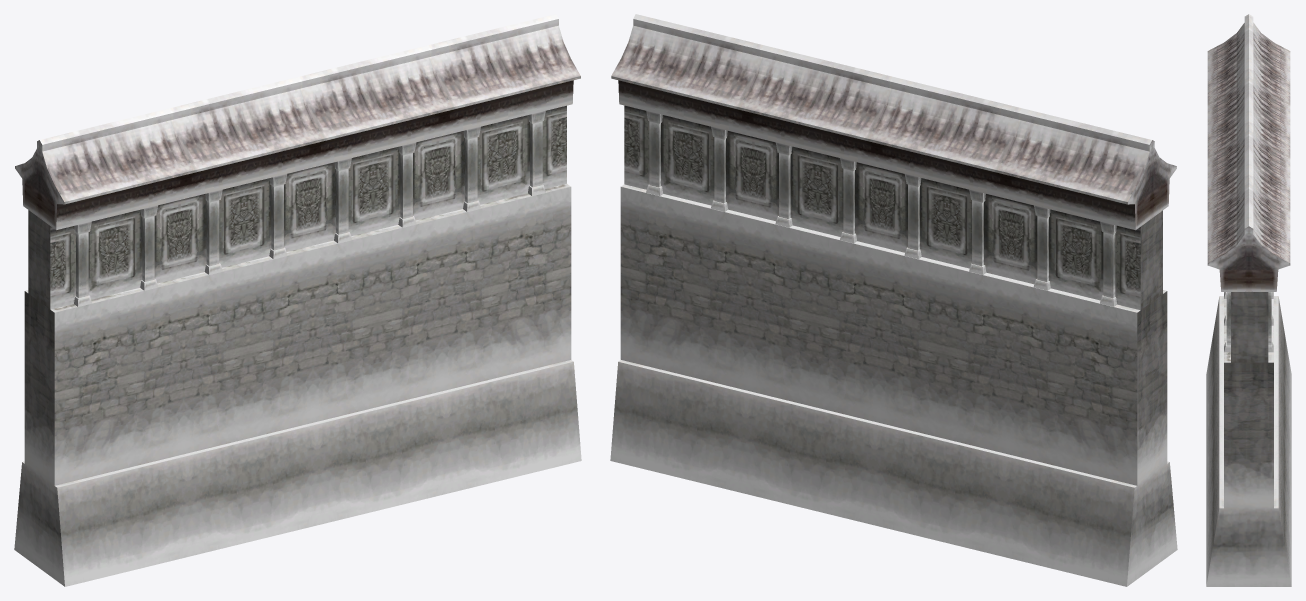
File: snow-middledam-02.glb
3 views of the same model, side by side, from view 1: azimuth 30°, elevation 25°; view 2: azimuth 150°, elevation 25°; view 3: azimuth 270°, elevation 25° (orthographic). The views are drawn at different scales.
Visible parts, largest first — view 1: snow-middledam-02; view 2: snow-middledam-02; view 3: snow-middledam-02.
Part boxes in pixels (box(x1,y1,x2,y2)): snow-middledam-02: box(14, 14, 581, 586); snow-middledam-02: box(610, 14, 1177, 586); snow-middledam-02: box(1206, 14, 1291, 586).
Size of the model in its own units: 10 by 7.92 by 1.7.
1 material, 1 textured.
